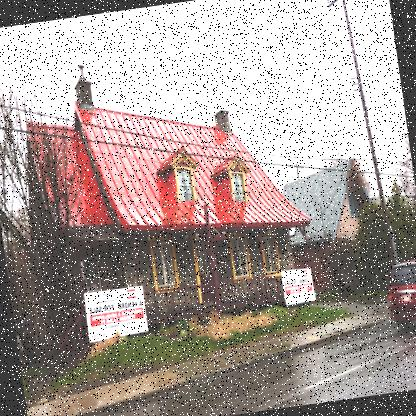Car: (382, 257, 415, 340)
